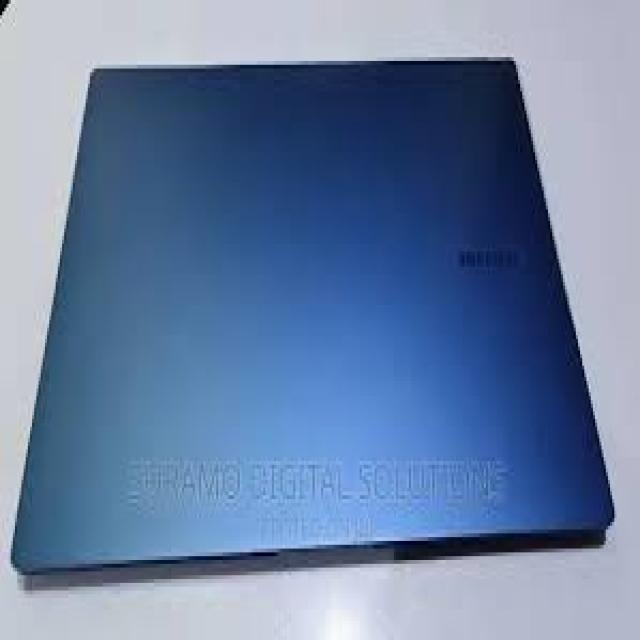laptop: (8, 53, 614, 579)
